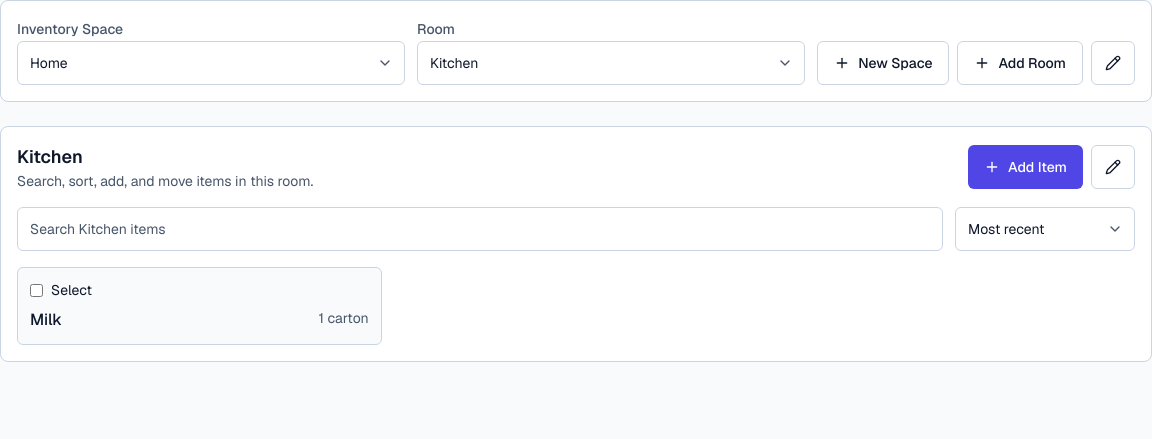
RoomDashboardSurface › hides add item action while room edit mode is active
Expected: the link "Add Item" is shown, [968,145,1083,189]
Click the button named "Edit Room": (1113, 167) [1091,145,1135,189]
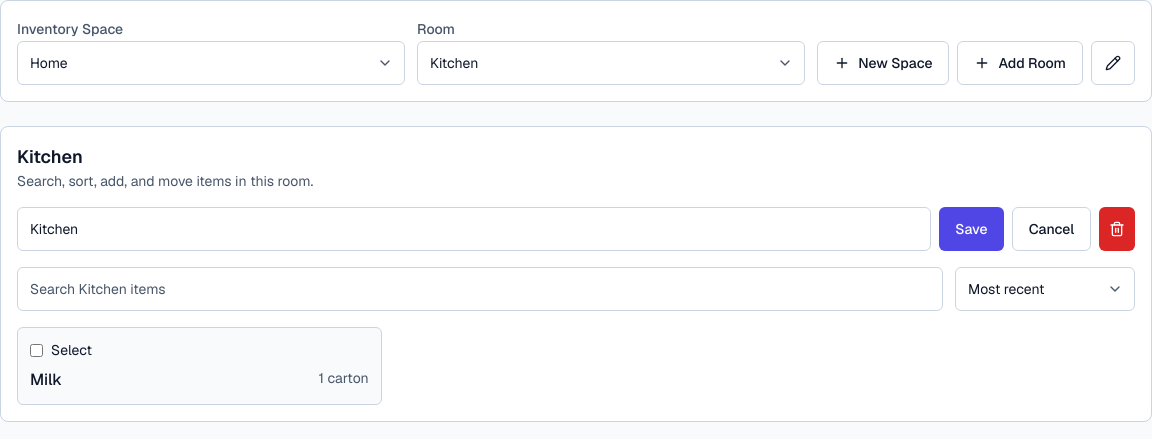
Result: the link "Add Item" is gone
